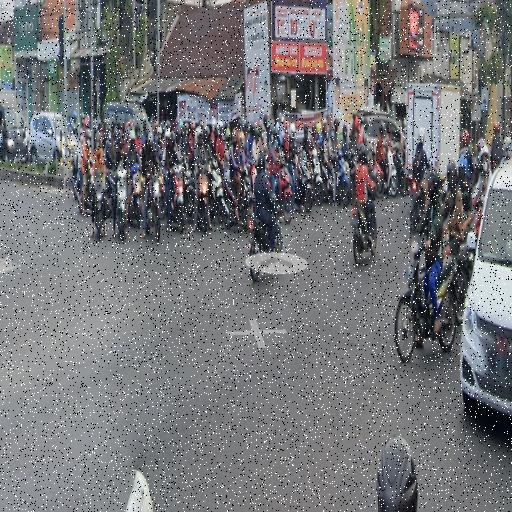Helmet: (377, 436, 417, 511), (425, 167, 439, 201), (447, 160, 457, 187), (480, 145, 489, 173), (458, 156, 468, 177), (477, 138, 485, 161), (480, 144, 489, 162), (504, 137, 511, 159), (257, 151, 265, 170), (166, 129, 176, 144), (195, 127, 203, 145), (359, 144, 366, 162), (289, 122, 296, 139), (354, 115, 361, 131), (462, 130, 469, 146), (418, 127, 424, 145), (203, 124, 210, 138), (175, 125, 181, 141), (324, 124, 330, 140), (239, 131, 245, 147), (232, 128, 237, 145), (211, 118, 217, 132), (279, 129, 285, 142), (86, 128, 92, 140), (143, 119, 148, 133), (241, 120, 247, 131), (84, 117, 89, 130), (264, 115, 269, 128), (270, 127, 275, 140), (249, 122, 254, 135), (113, 126, 118, 139), (316, 122, 321, 135), (284, 121, 289, 134), (379, 121, 384, 134), (323, 124, 329, 134), (494, 121, 499, 133), (135, 124, 140, 136), (165, 128, 171, 138), (156, 126, 162, 136), (304, 123, 308, 138), (95, 131, 100, 143), (147, 137, 153, 147), (226, 127, 230, 141), (130, 130, 135, 141), (218, 121, 223, 132), (165, 120, 171, 129), (364, 119, 368, 132), (343, 124, 347, 137), (334, 119, 338, 132), (191, 121, 195, 134), (238, 118, 242, 131), (255, 126, 260, 136), (179, 120, 184, 130), (331, 128, 335, 140), (81, 112, 85, 124), (184, 123, 189, 132), (119, 130, 123, 141), (276, 124, 280, 135), (154, 120, 158, 130), (73, 111, 77, 121), (386, 123, 390, 133), (129, 119, 133, 128), (94, 118, 97, 130), (403, 119, 406, 130), (270, 120, 274, 128), (322, 117, 326, 125), (281, 115, 284, 125)
Motor: (395, 237, 456, 361), (222, 162, 254, 229), (352, 202, 377, 265), (452, 244, 470, 324), (278, 151, 294, 224), (126, 471, 153, 511), (169, 165, 184, 233), (295, 156, 313, 212), (146, 170, 160, 242), (248, 211, 270, 256), (209, 160, 224, 223), (128, 164, 142, 228), (410, 177, 425, 235), (116, 163, 127, 242), (369, 149, 385, 198), (337, 151, 351, 207), (93, 170, 104, 241), (184, 159, 195, 223), (395, 147, 408, 196), (312, 149, 323, 205), (198, 174, 208, 233), (104, 170, 116, 218), (386, 149, 398, 197), (322, 163, 336, 202), (472, 197, 483, 239), (348, 147, 357, 197), (84, 159, 92, 210), (159, 170, 167, 220)
